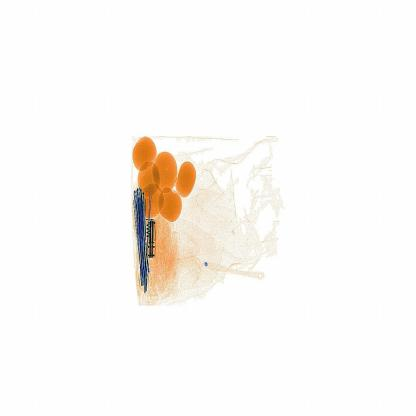scissors: (139, 216, 164, 260)
